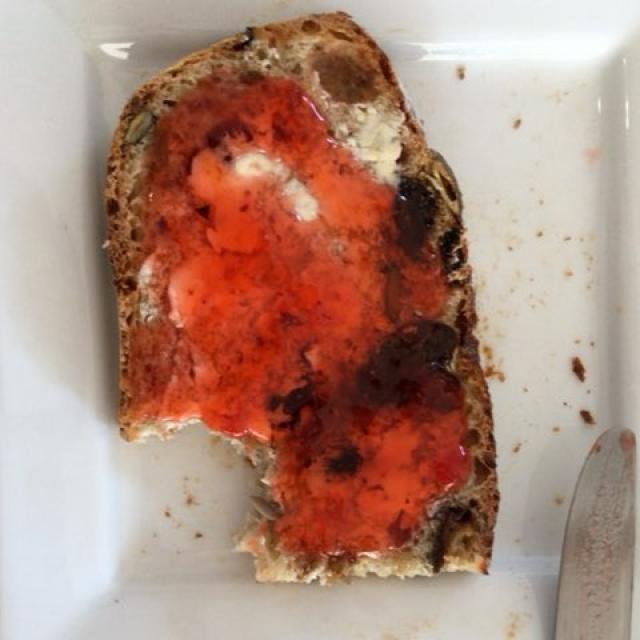bread: (89, 5, 514, 606)
butter: (114, 104, 401, 350)
jam: (127, 77, 462, 557)
